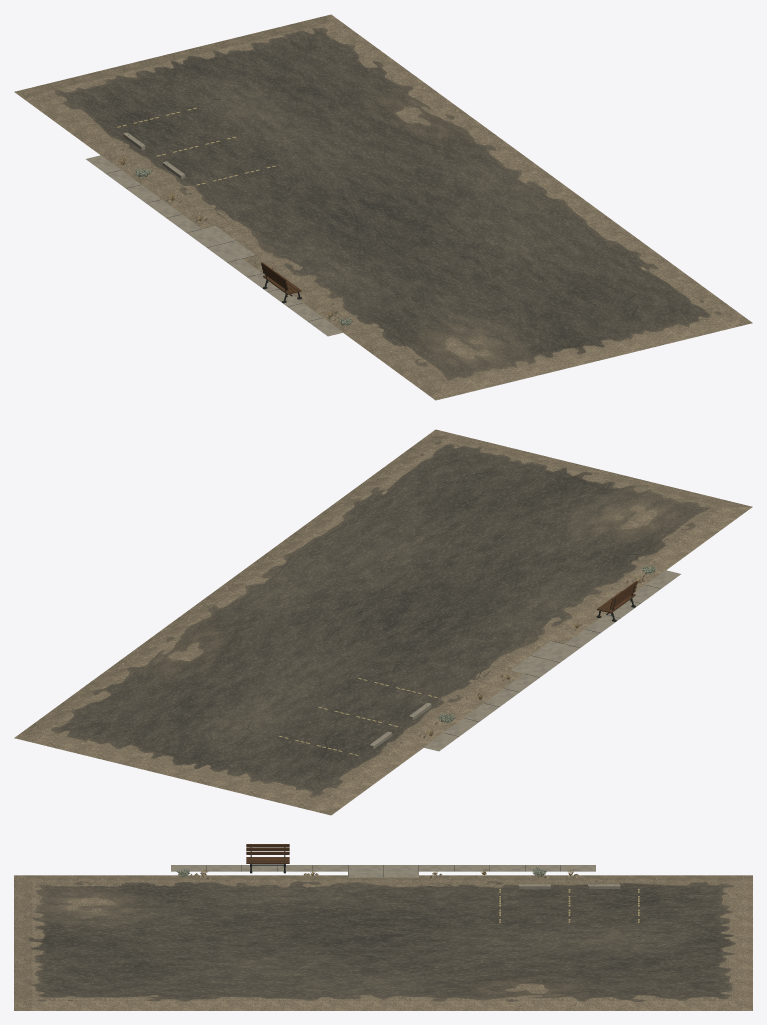
The model's file is SM_Mesa_Parking.fbx.
3 renders of one model, top to bottom at view 1: azimuth 30°, elevation 25°; view 2: azimuth 150°, elevation 25°; view 3: azimuth 270°, elevation 25°, orthographic. The views are drawn at different scales.
Parts seen in each view (by area): view 1: SM_Mesa_Parking; view 2: SM_Mesa_Parking; view 3: SM_Mesa_Parking.
Part boxes in pixels (x1,y1,x2,y2): SM_Mesa_Parking: (14, 14, 752, 400); SM_Mesa_Parking: (14, 429, 752, 815); SM_Mesa_Parking: (14, 844, 752, 1010).
Size of the model in its own units: 14.7 by 32 by 1.14.
